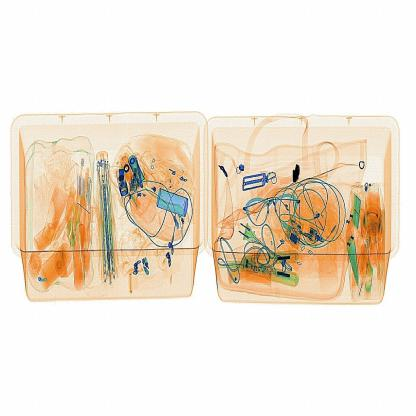knife: (284, 158, 309, 190)
